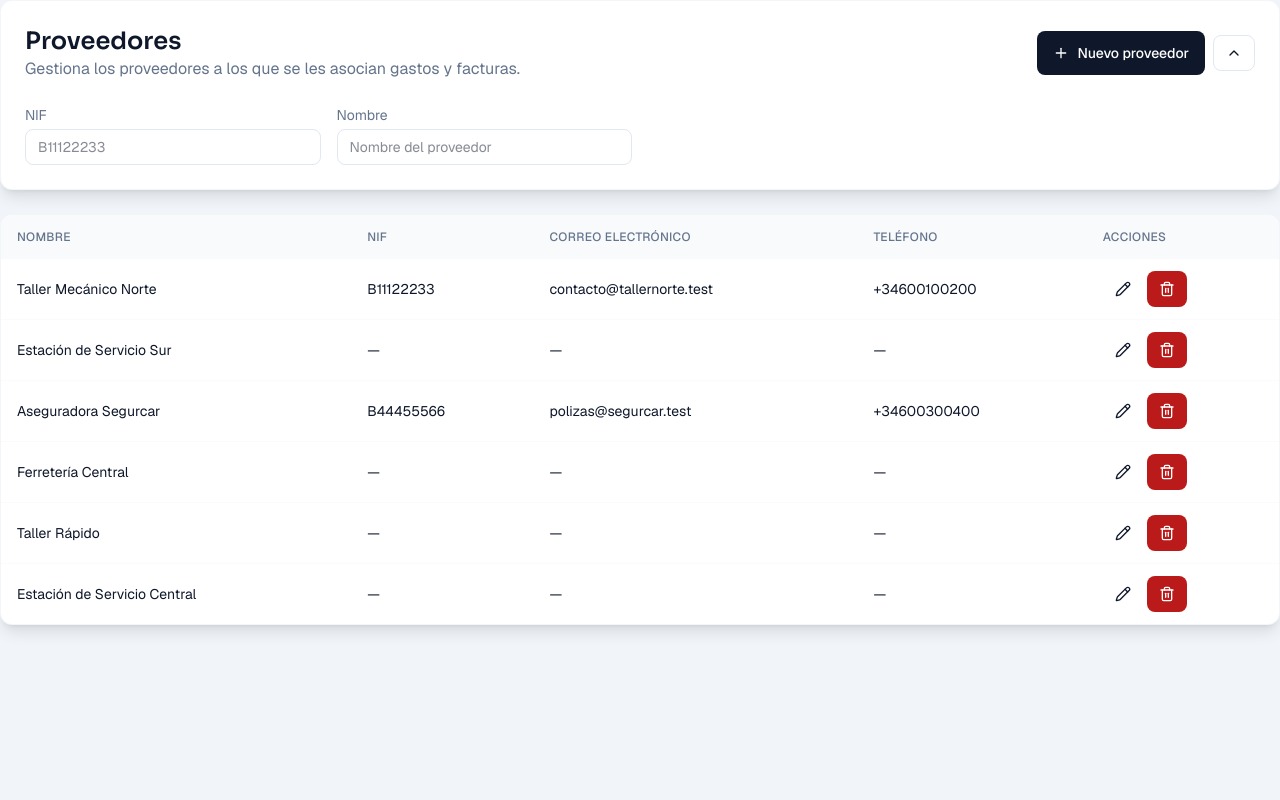
Test: Suppliers › narrows the supplier list with the name filter
Expected: the text "Taller Mecánico Norte" is shown, [1,259,351,320]
In the field named "buscar por nombre": (484, 147) [336,129,632,165], type "Ferretería"
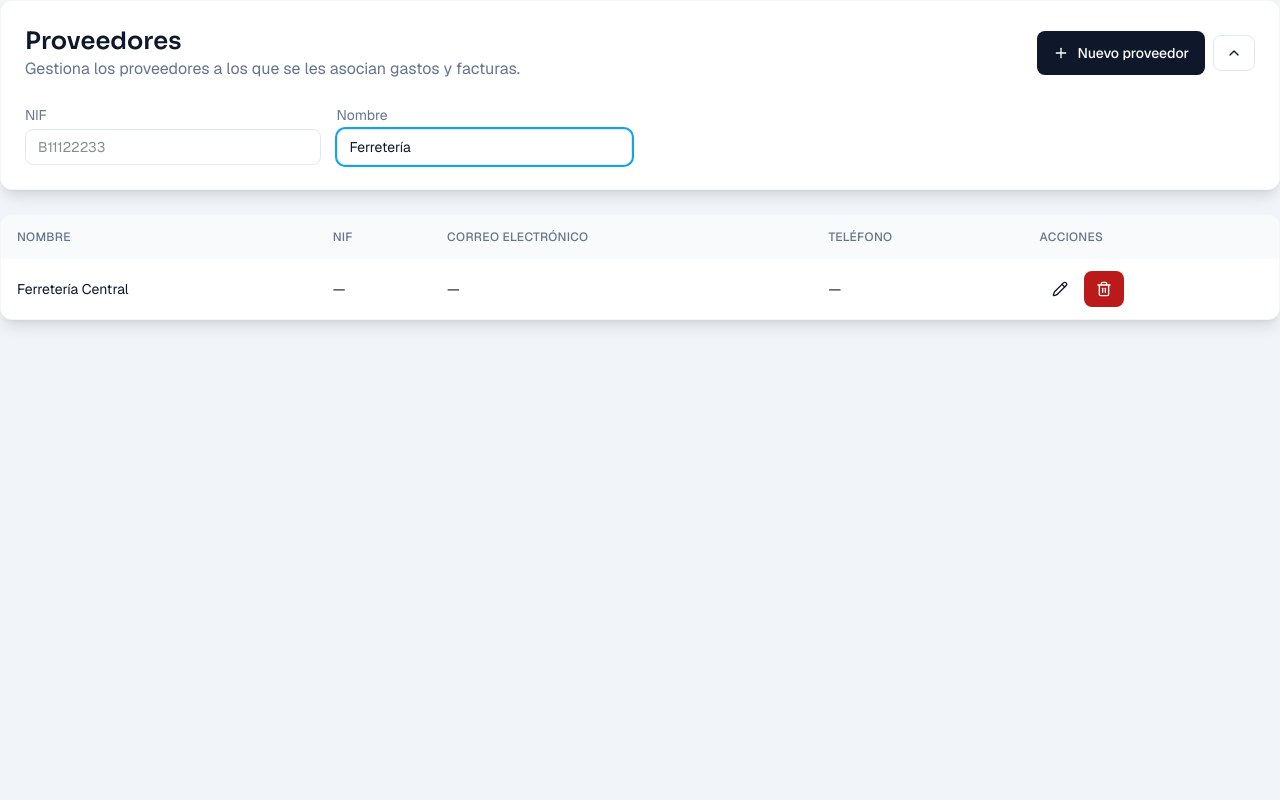
Expected: the text "Ferretería Central" is shown, [1,259,317,319]
Now the text "Taller Mecánico Norte" is gone
